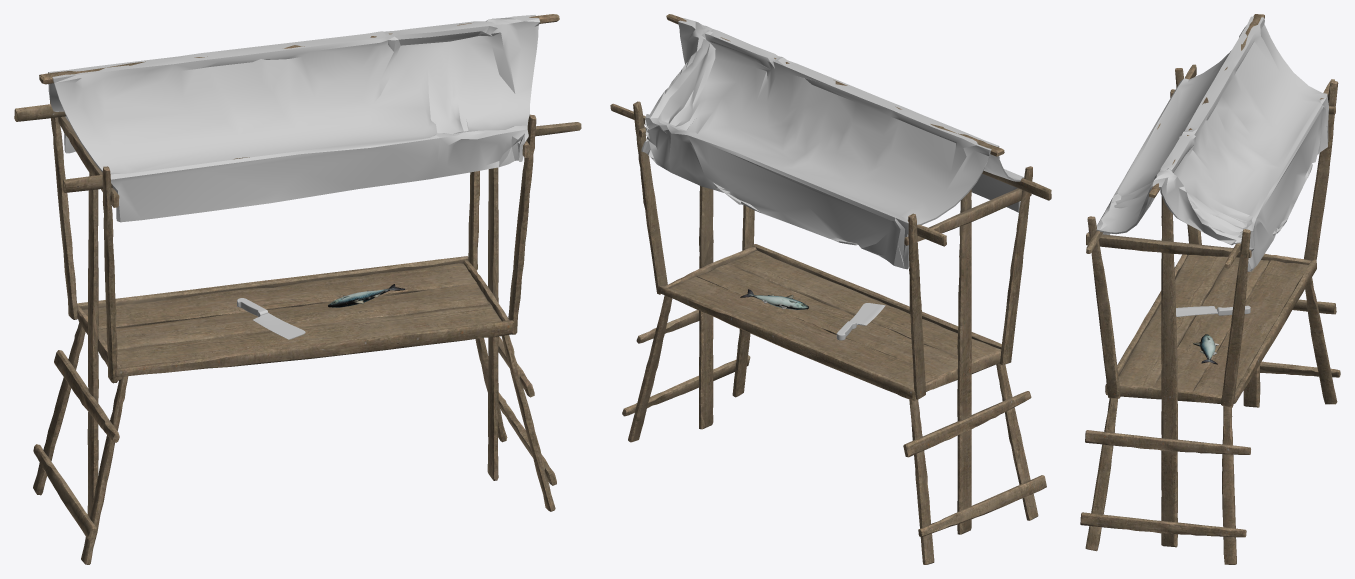
The model's file is fish_market.fbx.
The picture shows the model from 3 angles, left to right: view 1: azimuth 30°, elevation 25°; view 2: azimuth 150°, elevation 25°; view 3: azimuth 270°, elevation 25°; orthographic projection. The views are drawn at different scales.
Parts seen in each view (by area): view 1: Medieval market stand 1.001; view 2: Medieval market stand 1.001; view 3: Medieval market stand 1.001, Blade, body.
Part boxes in pixels (x1=…): Medieval market stand 1.001: x1=14, y1=14, x2=581, y2=564; Medieval market stand 1.001: x1=610, y1=14, x2=1051, y2=564; Medieval market stand 1.001: x1=1080, y1=14, x2=1340, y2=564; Blade: x1=1176, y1=306, x2=1217, y2=316; body: x1=1193, y1=337, x2=1219, y2=364.
Bounding box in the file's own units: 604 × 542 × 339.
